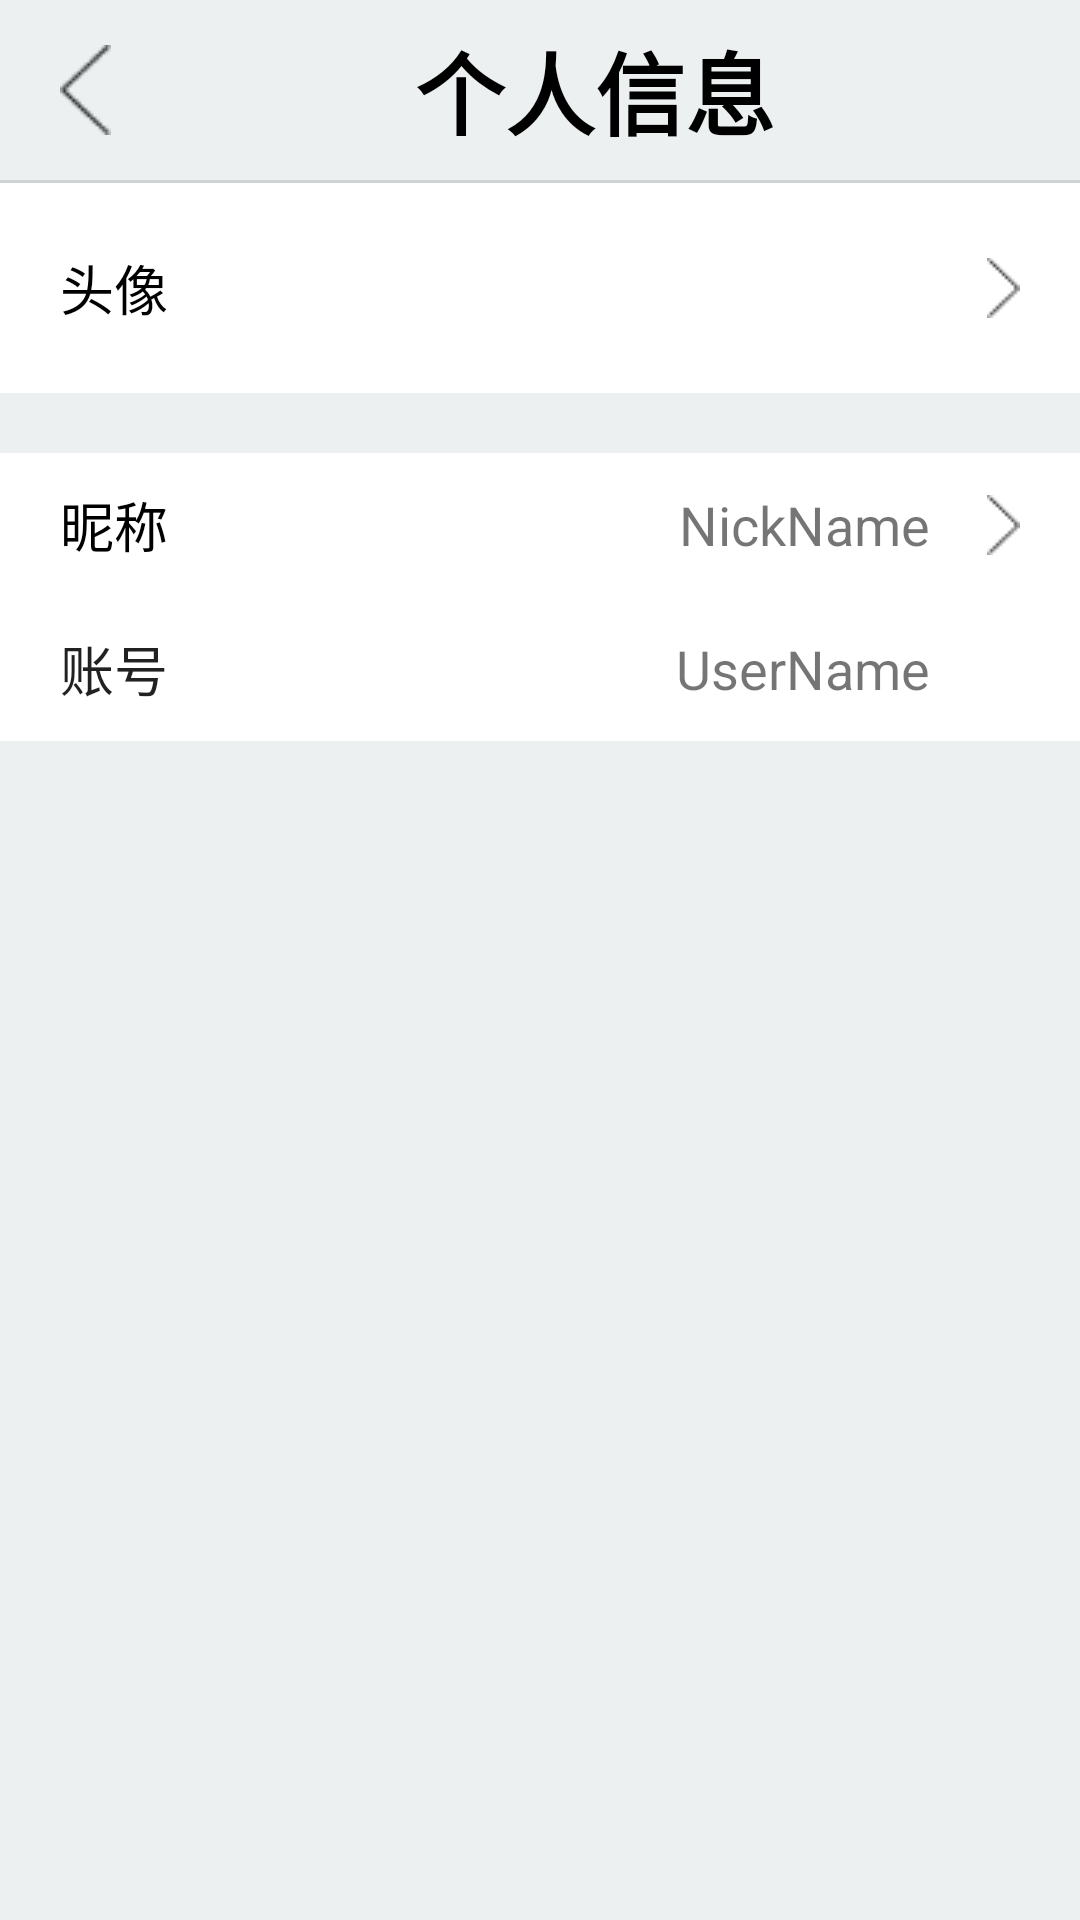

Point at icon controls on the screen. Image size 1080×1920, points as (x=x, y=y).
less: (x=85, y=90)
